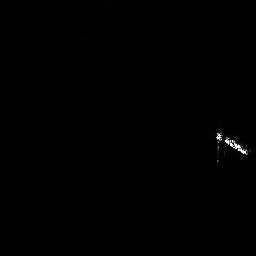ship: (212, 126, 252, 159)
